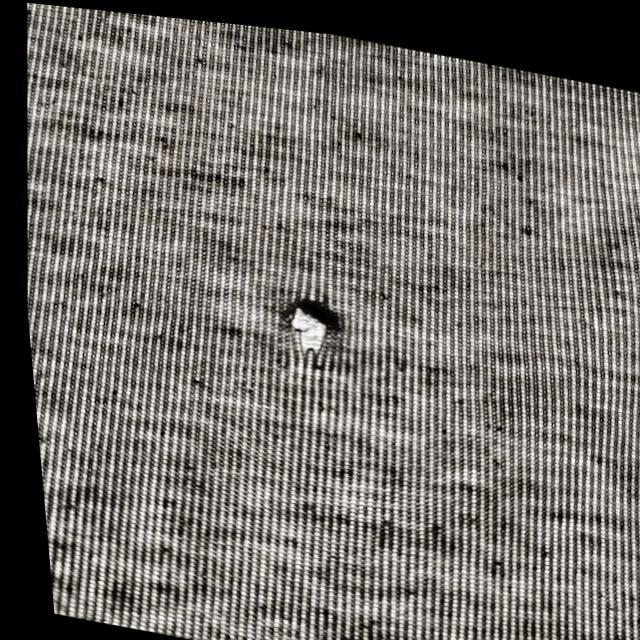Hole: (265, 282, 343, 369)
